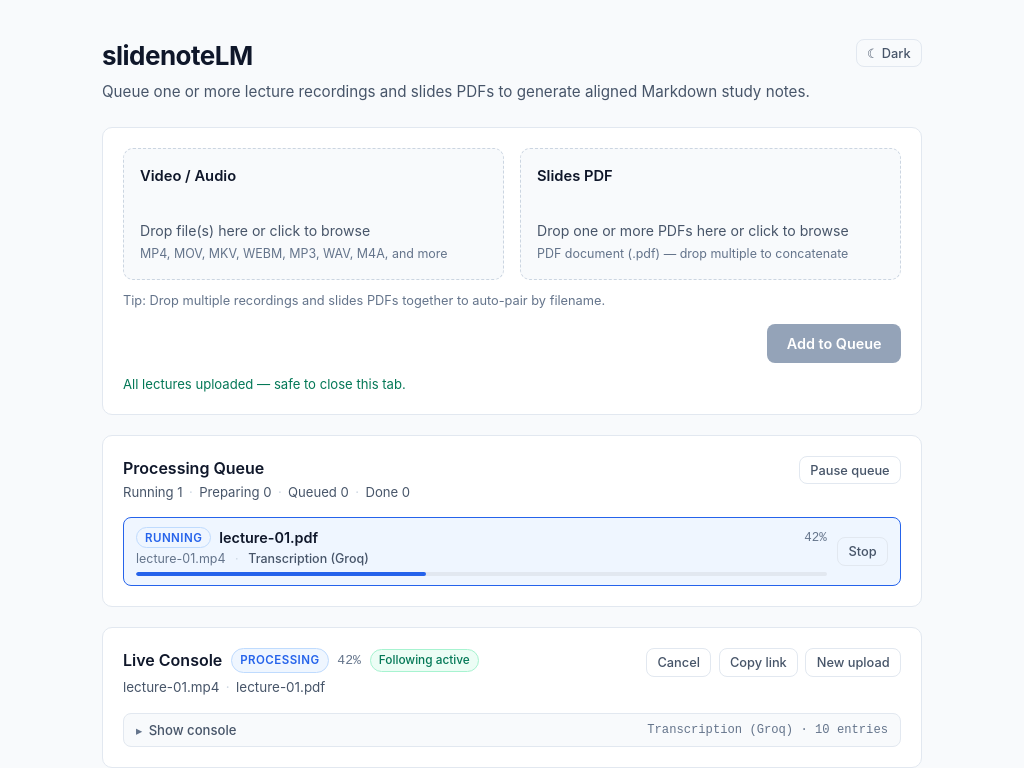
Test: slidenoteLM App › uploads files, polls queue & live console steps, shows Download .md when complete, and stops polling when idle
The width and height of the screenshot is (1024, 768).
Earlier steps of the test are not shown.
Click the button "▸ Show console Transcription (Groq) · 10 entries" at (193, 730), box [123,714,901,748]
Wait 8100 ms
(page scrolled)
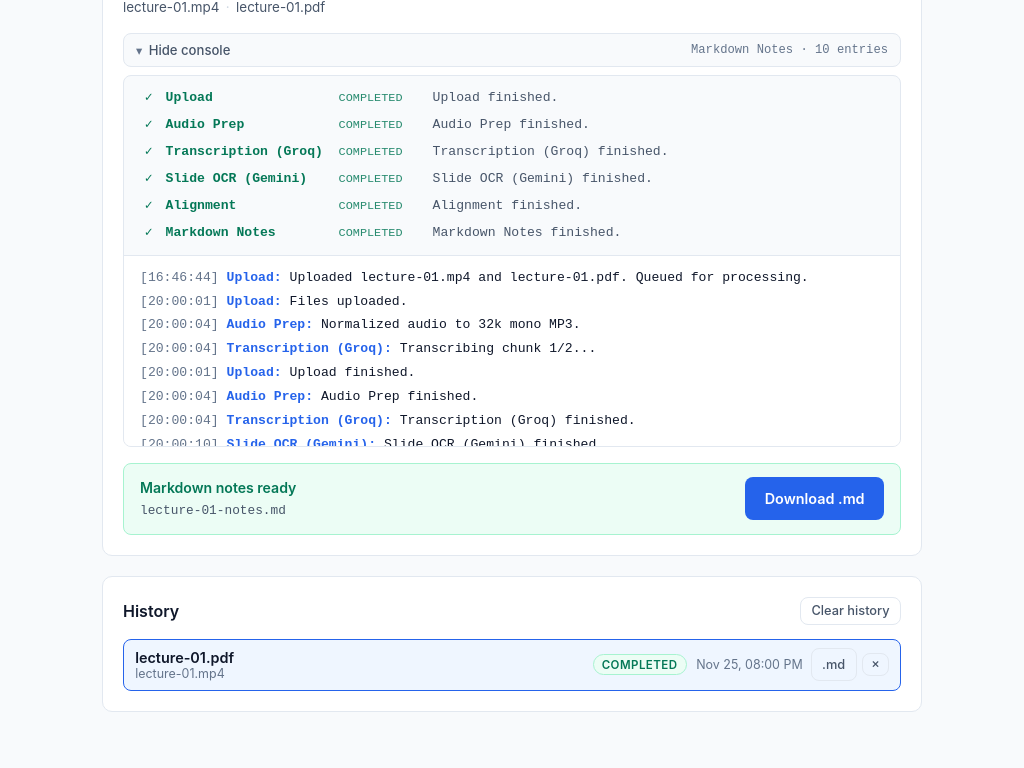
expect the button "▾ Hide console Markdown Notes · 10 entries" is expanded: met, box [123,33,901,67]
expect the text "Transcribing chunk 1/2..." is shown: met, box [400,341,596,356]
expect the text "lecture-01-notes.md" is shown: met, box [140,501,296,520]
